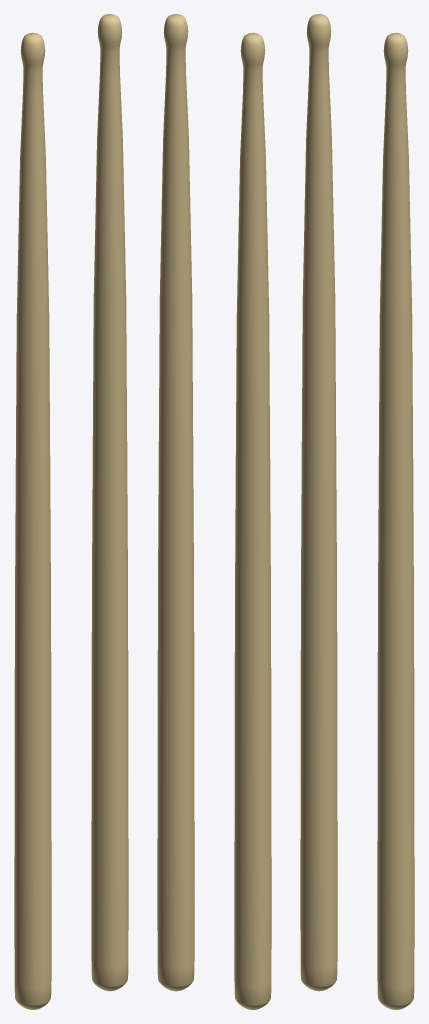
File: _rumsticks.fbx
The picture shows the model from 3 angles, left to right: view 1: azimuth 30°, elevation 25°; view 2: azimuth 150°, elevation 25°; view 3: azimuth 330°, elevation 25°; orthographic projection.
Visible parts, largest first — view 1: Drumstick 2, Drumstick; view 2: Drumstick 2, Drumstick; view 3: Drumstick, Drumstick 2.
Boxes of the visible parts, x1,y1,x2,y2 form: Drumstick 2: [91, 14, 128, 991]; Drumstick: [14, 32, 51, 1009]; Drumstick 2: [157, 14, 194, 991]; Drumstick: [234, 32, 271, 1009]; Drumstick: [300, 14, 337, 991]; Drumstick 2: [377, 32, 414, 1009].
Size of the model in its own units: 115 by 977 by 33.81.
